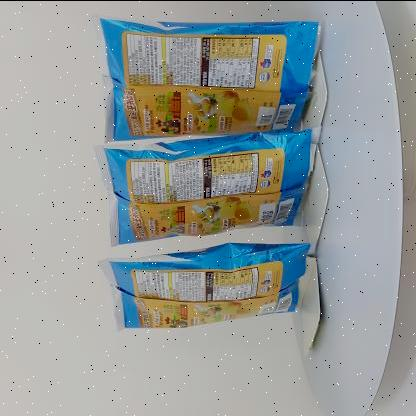Others: (85, 12, 335, 342)
